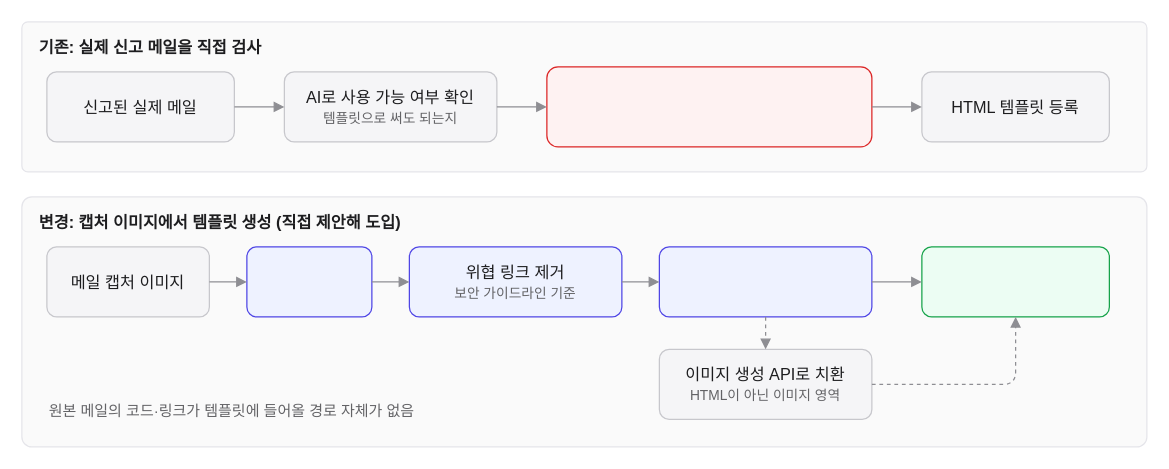
Some shapes in this 1169 by 469 pixel diagram are drawn without their labels. The centre of each missing label's shape, as x and y in pixels:
"OCR 해석" belongs at point 309,281.
"샌드박스에서 HTML·링크 직접 검사 실수하면 담당자가 악성 메일을 전파" belongs at point 709,106.
"템플릿 등록" belongs at point 1015,281.
"템플릿 재구성 UI 요소만 사용" belongs at point 765,281.
